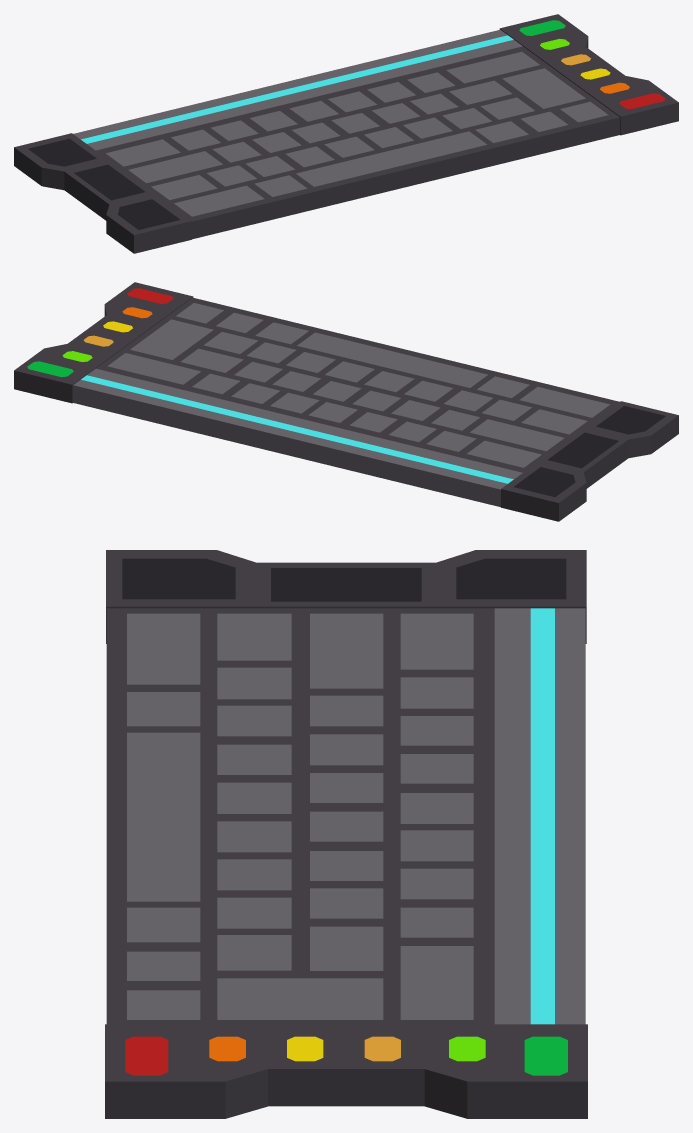
File: SM_Props_Device_02.fbx
3 renders of one model, top to bottom at view 1: azimuth 30°, elevation 25°; view 2: azimuth 150°, elevation 25°; view 3: azimuth 270°, elevation 25°, orthographic. The views are drawn at different scales.
Parts seen in each view (by area): view 1: SM_Props_Device_02; view 2: SM_Props_Device_02; view 3: SM_Props_Device_02.
Part boxes in pixels (x1,y1,x2,y2): SM_Props_Device_02: (14, 14, 678, 253); SM_Props_Device_02: (14, 282, 678, 521); SM_Props_Device_02: (105, 550, 587, 1118).
Size of the model in its own units: 0.637 by 0.0209 by 0.2447.
